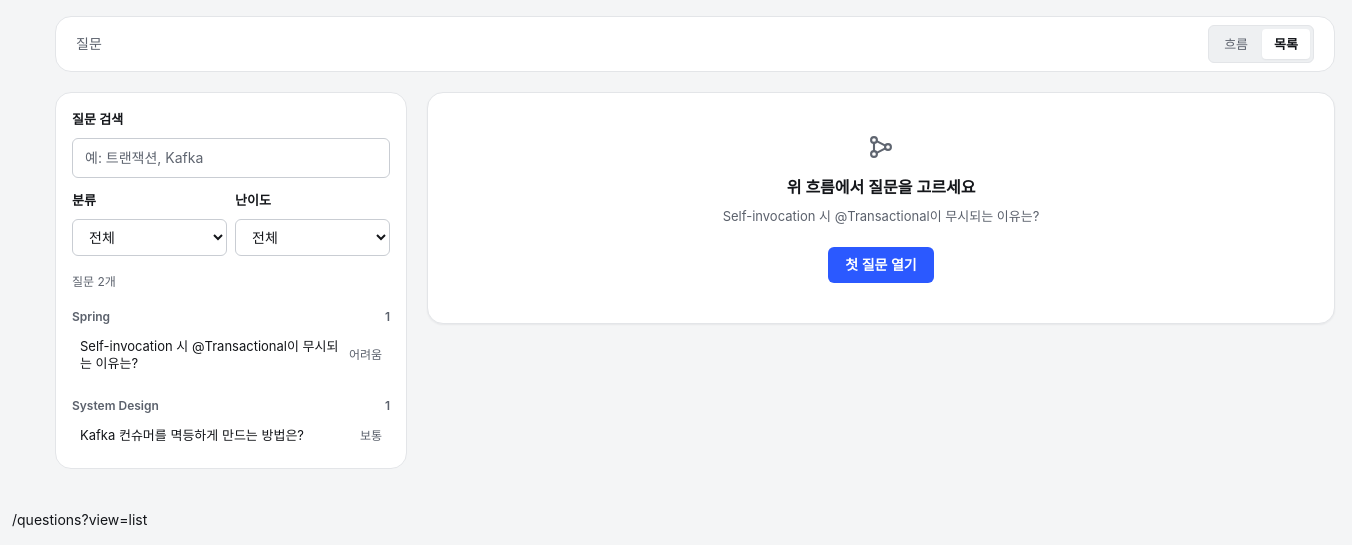
Test: QuestionsIndexPage › writes 목록 filters to the URL
Select "어려움" in the dropdown labelled "난이도": {"x": 312, "y": 238} [235, 219, 390, 256]
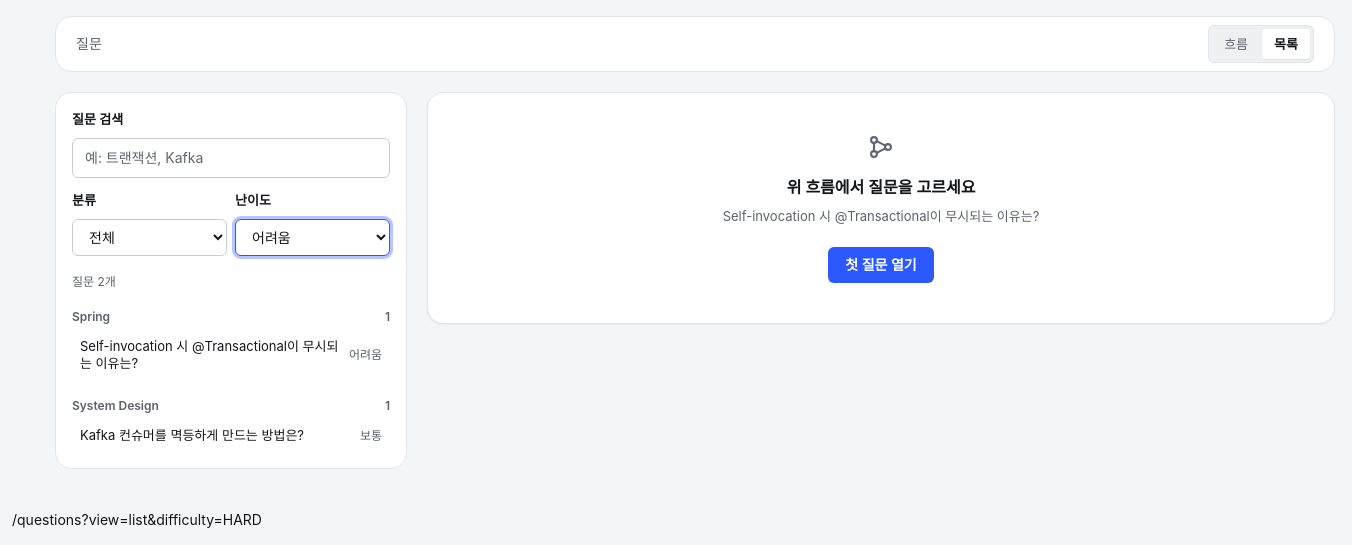
Check: the text with test id "location-display" reads "/questions?view=list&difficulty=HARD", box [12, 511, 262, 528]
